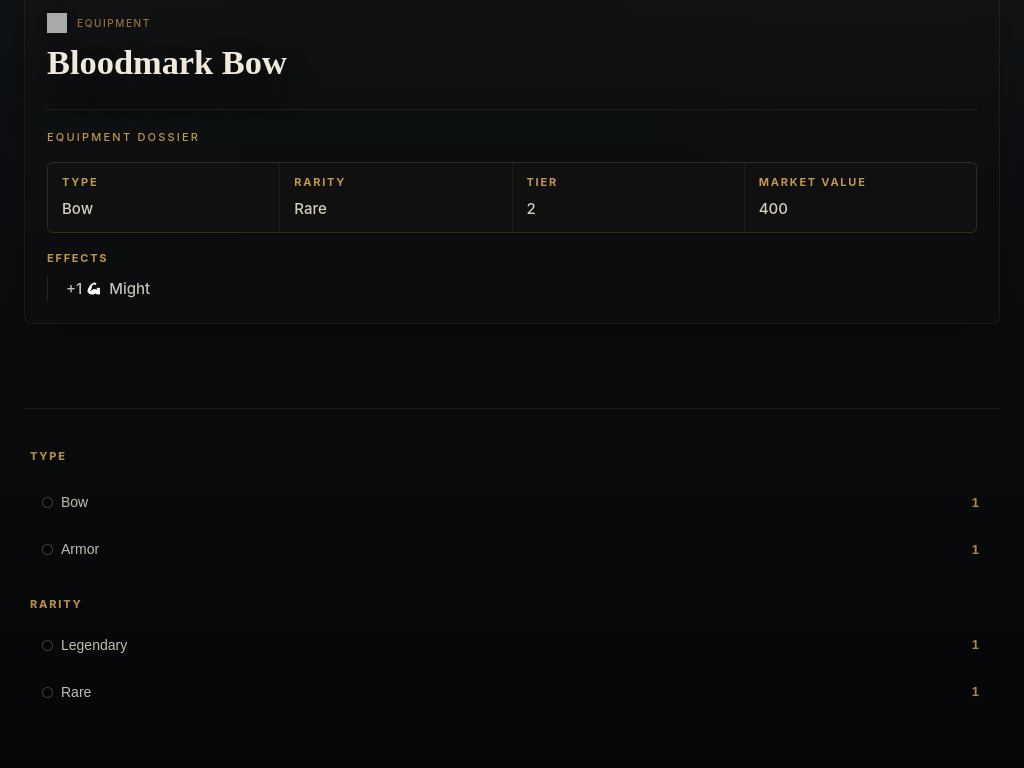
Test: CodexPage Tech Equipment Hero Unit archives › returns from Equipment detail to the archive list when a rail filter changes
(page scrolled)
Expected: the heading "Bloodmark Bow" is shown, [47,43,287,81]
Click the button "Rare 1": point(76, 692) [30,670,990,714]
(page scrolled)
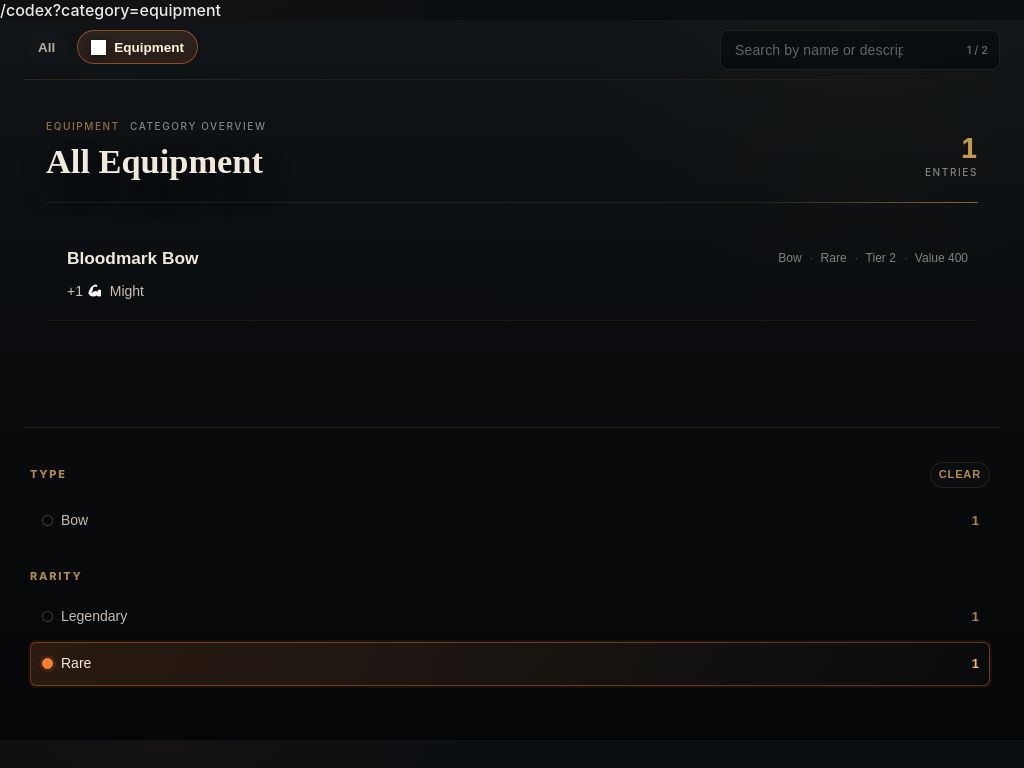
Expected: the text "Bloodmark Bow" is shown, [67,248,198,268]
Expected: the heading "All Equipment" is shown, [46,144,263,178]
Expected: the text with test id "location-probe" reads "/codex?category=equipment", [0,0,221,20]
